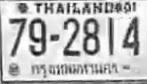1: (107, 16, 113, 56)
2: (62, 17, 79, 56)
4: (121, 16, 139, 55)
7: (8, 17, 26, 56)
8: (82, 17, 99, 54)
9: (28, 17, 46, 55)
BKK: (28, 60, 120, 78)
